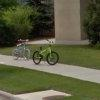Bicycle: (11, 36, 64, 68)
